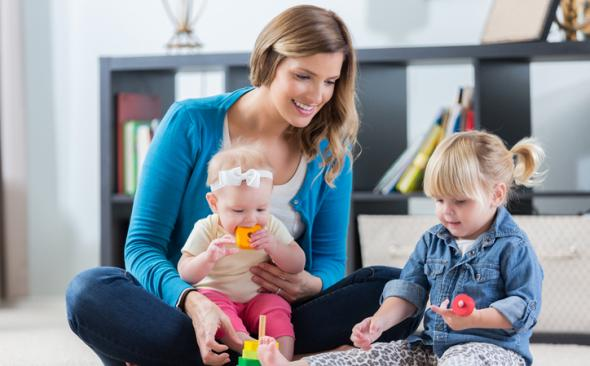without_mask: (279, 49, 342, 129), (430, 178, 494, 241), (213, 177, 272, 237)
